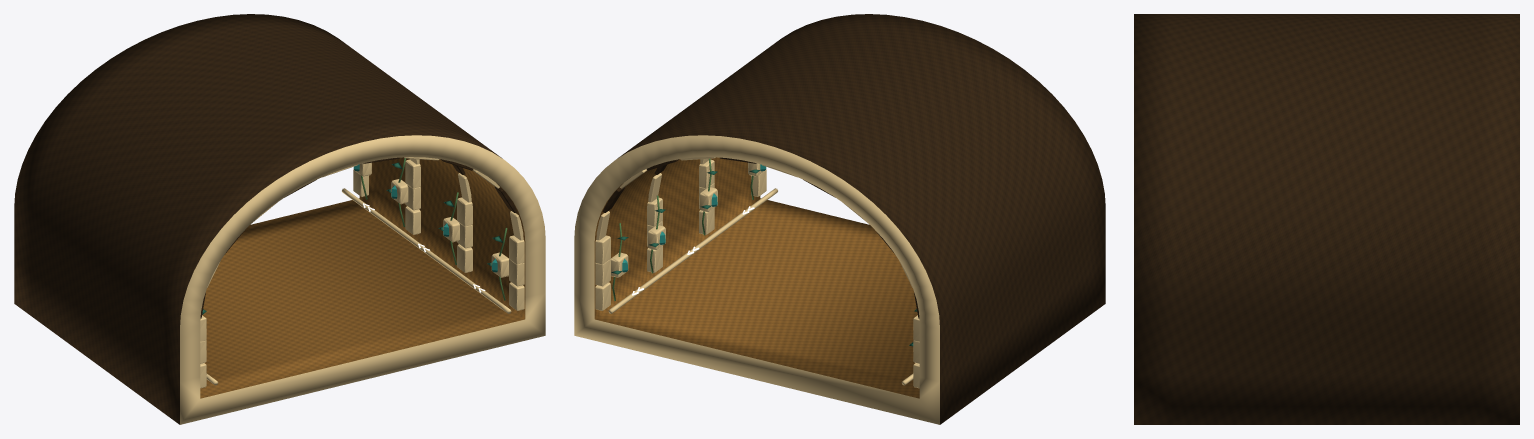
The model's file is straight_12m_lod1.glb.
The picture shows the model from 3 angles, left to right: view 1: azimuth 30°, elevation 25°; view 2: azimuth 150°, elevation 25°; view 3: azimuth 270°, elevation 25°; orthographic projection. The views are drawn at different scales.
Visible parts, largest first — view 1: TunnelGeometry.001; view 2: TunnelGeometry.001; view 3: TunnelGeometry.001.
Boxes of the visible parts, box(x1,y1,x2,y2) form: TunnelGeometry.001: box(14, 14, 545, 424); TunnelGeometry.001: box(574, 14, 1105, 424); TunnelGeometry.001: box(1134, 14, 1519, 424).
Size of the model in its own units: 15.3 by 9.52 by 12.
Materials: 7 (2 with a texture image).
